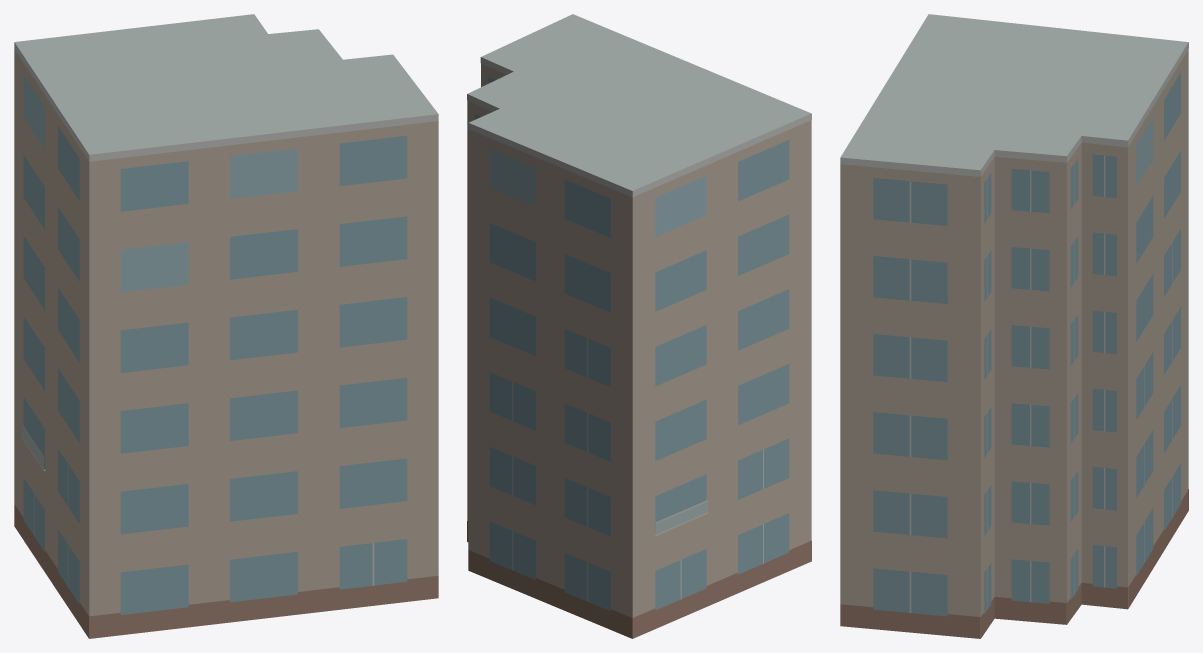
Rendered from survey-upis-33015890.glb.
The picture shows the model from 3 angles, left to right: view 1: azimuth 30°, elevation 25°; view 2: azimuth 150°, elevation 25°; view 3: azimuth 270°, elevation 25°; orthographic projection. The views are drawn at different scales.
Parts seen in each view (by area): view 1: survey-upis-33015890.tmp; view 2: survey-upis-33015890.tmp; view 3: survey-upis-33015890.tmp.
Part boxes in pixels (bbox=[...]): survey-upis-33015890.tmp: bbox=[14, 14, 438, 638]; survey-upis-33015890.tmp: bbox=[467, 14, 811, 638]; survey-upis-33015890.tmp: bbox=[840, 14, 1188, 638].
Bounding box in the file's own units: 12.24 × 17.1 × 11.53.
